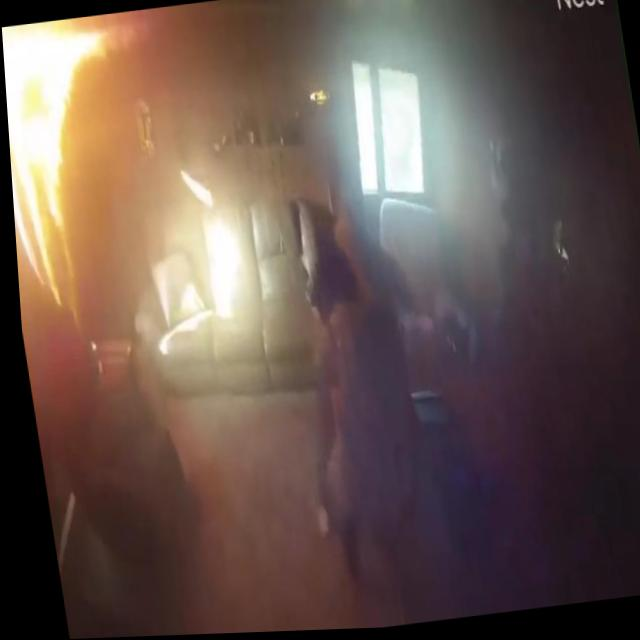fire: (1, 13, 146, 314)
